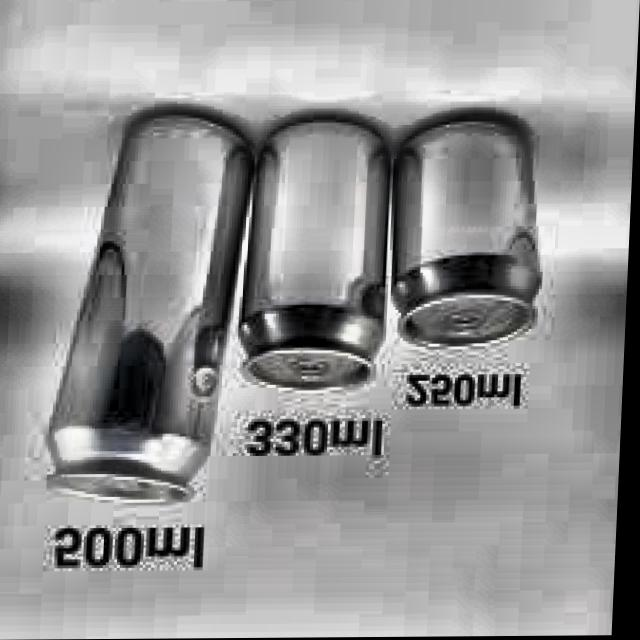can: (42, 99, 266, 517), (226, 111, 402, 400), (380, 110, 559, 356)
